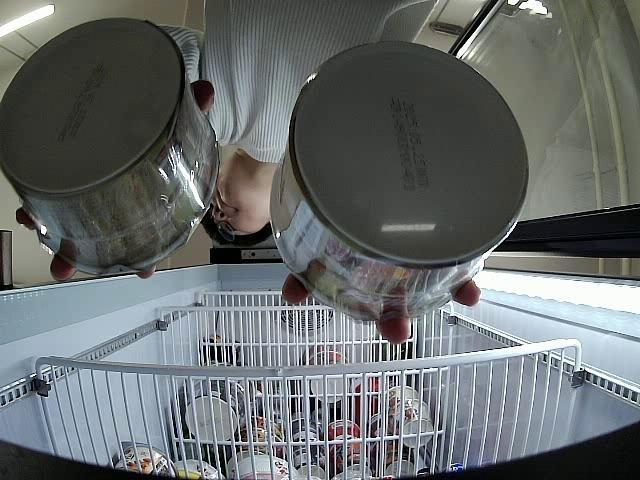03_chapagetti_L: (270, 43, 528, 318), (2, 16, 218, 275)
